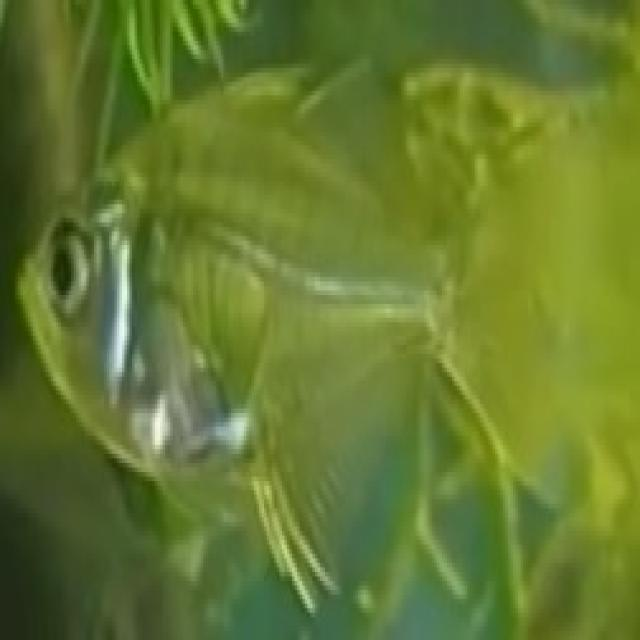Glass-Perchlet: (0, 87, 534, 578)
